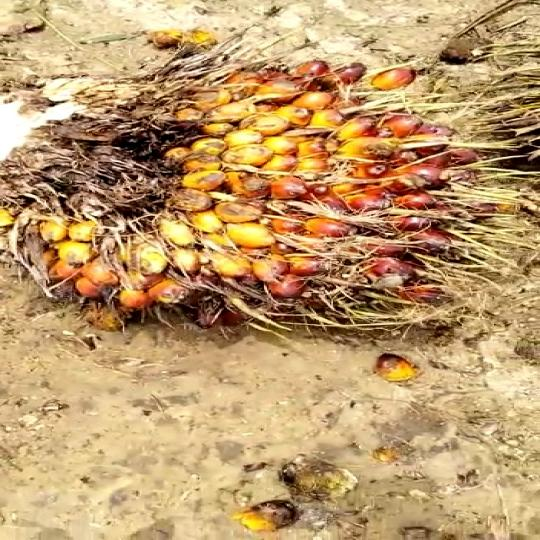masak: (0, 43, 537, 376)
